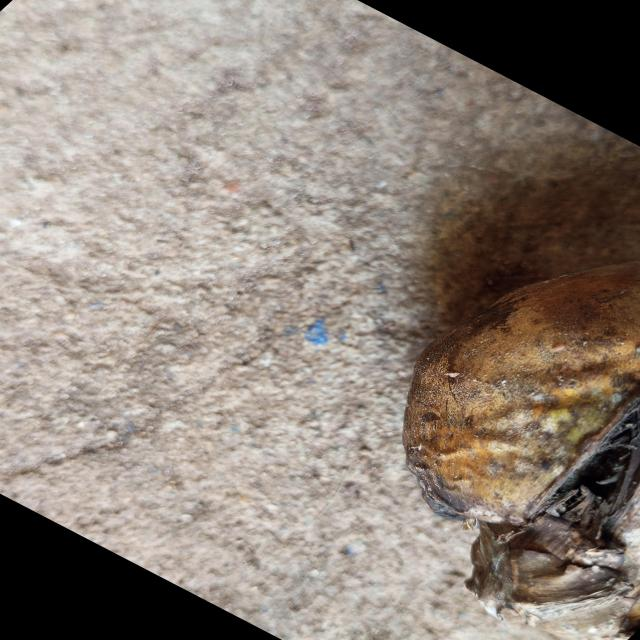damaged: (402, 200, 640, 640)
